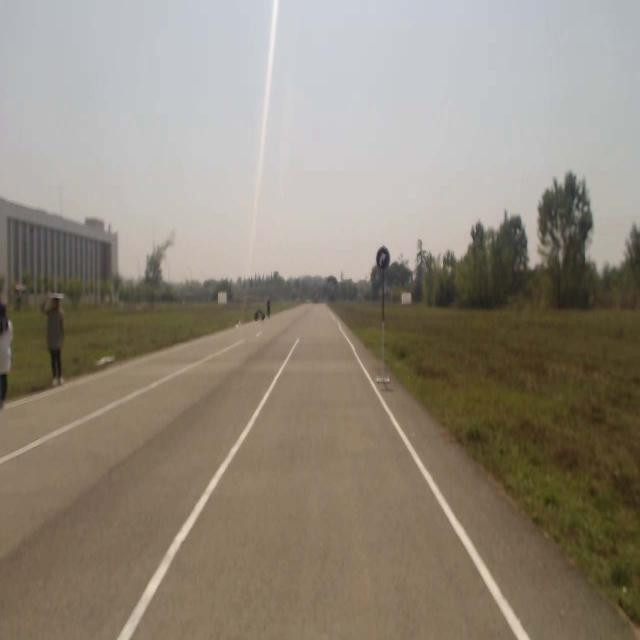sag: (376, 246, 389, 271)
